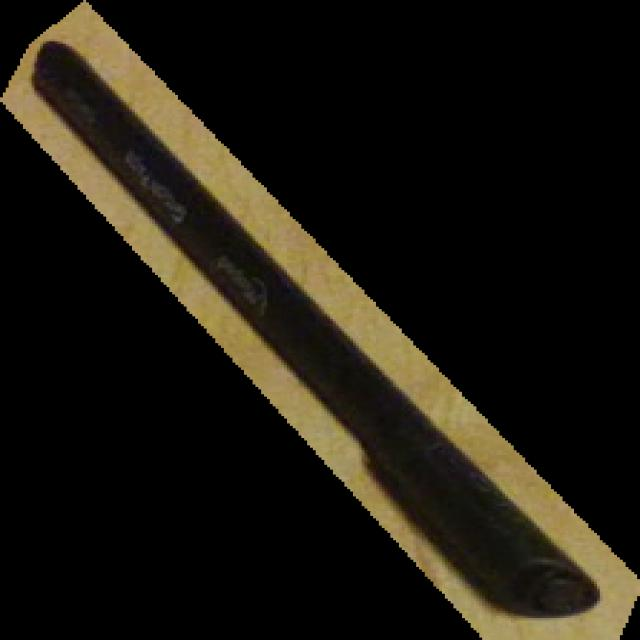black: (0, 0, 640, 640)
